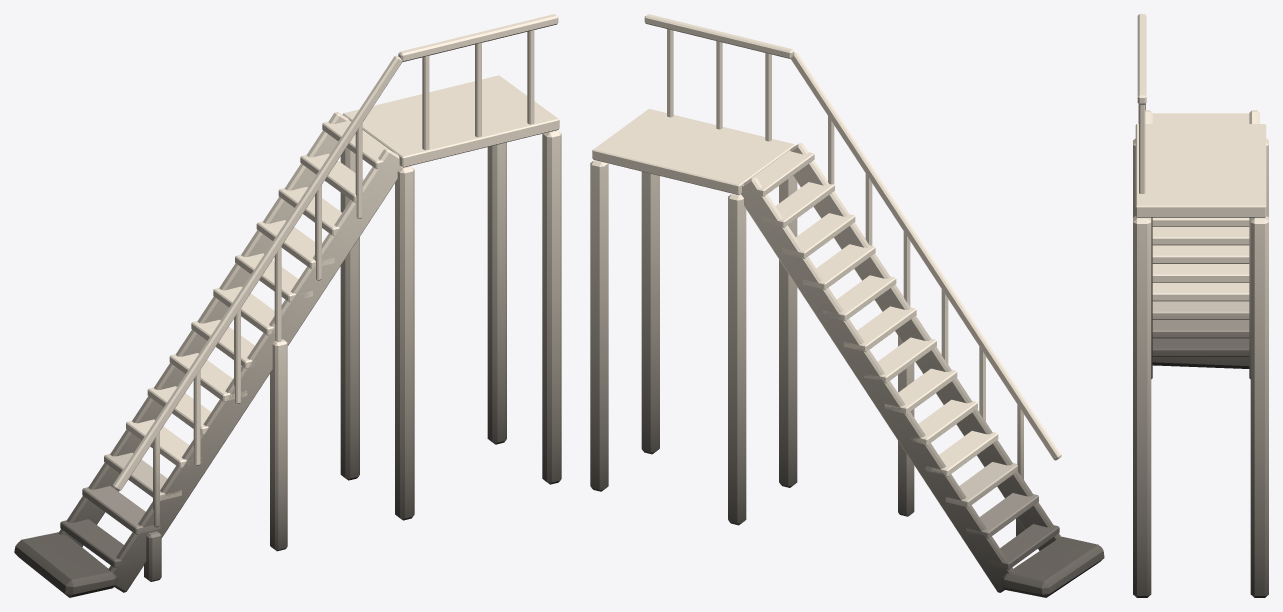
File: SM_VK_Stair_Ext.fbx
The picture shows the model from 3 angles, left to right: view 1: azimuth 30°, elevation 25°; view 2: azimuth 150°, elevation 25°; view 3: azimuth 270°, elevation 25°; orthographic projection. The views are drawn at different scales.
Parts seen in each view (by area): view 1: SM_VK_Stair_Ext.001; view 2: SM_VK_Stair_Ext.001; view 3: SM_VK_Stair_Ext.001.
Boxes of the visible parts, bbox=[...] form: SM_VK_Stair_Ext.001: bbox=[14, 14, 561, 597]; SM_VK_Stair_Ext.001: bbox=[590, 14, 1104, 597]; SM_VK_Stair_Ext.001: bbox=[1133, 14, 1268, 597].
Bounding box in the file's own units: 4.7 × 4.31 × 1.04.
